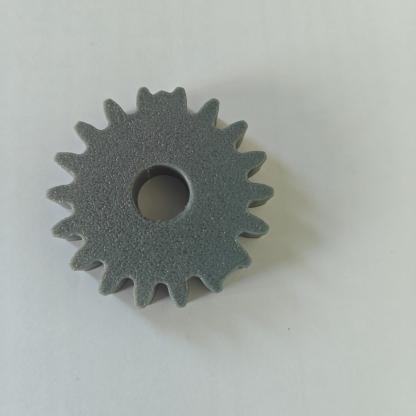defect: (176, 241, 258, 306), (130, 71, 196, 130)
gear: (44, 60, 290, 319)
